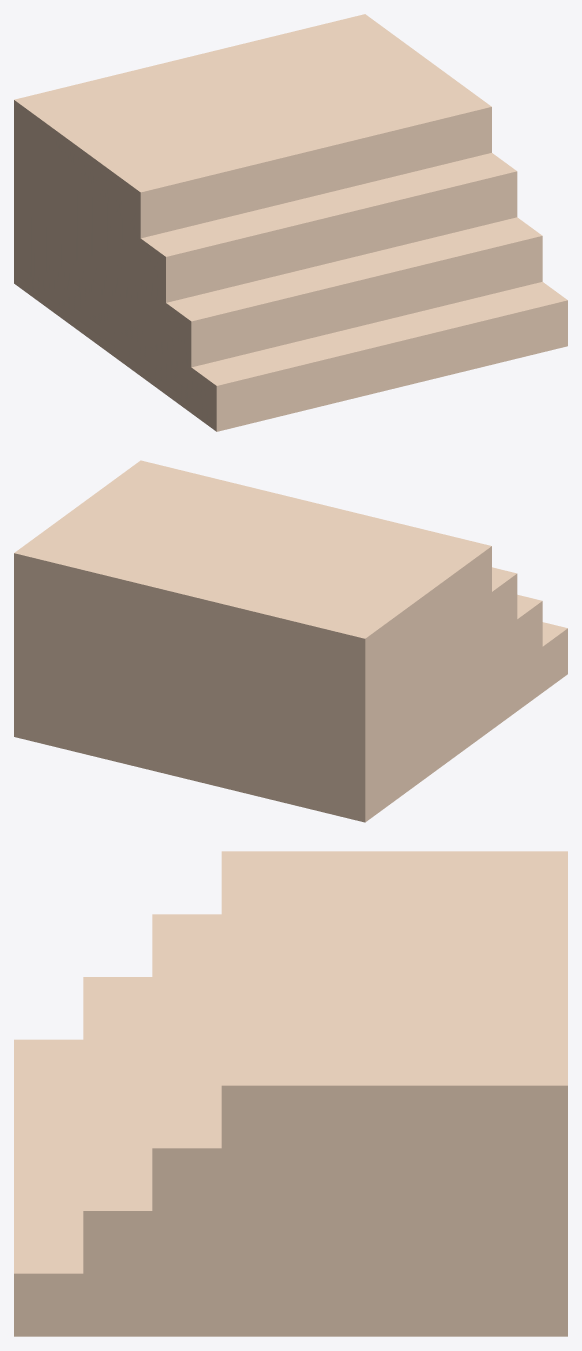
Rendered from Abstract_Castle_Block_Half_Stairs_Cream_01.fbx.
The picture shows the model from 3 angles, top to bottom: view 1: azimuth 30°, elevation 25°; view 2: azimuth 150°, elevation 25°; view 3: azimuth 270°, elevation 25°; orthographic projection. The views are drawn at different scales.
Parts seen in each view (by area): view 1: Model; view 2: Model; view 3: Model.
Part boxes in pixels (x1,y1,x2,y2): Model: [14, 14, 567, 431]; Model: [14, 460, 567, 822]; Model: [14, 851, 567, 1336].
Bounding box in the file's own units: 1000 × 500 × 1000.
